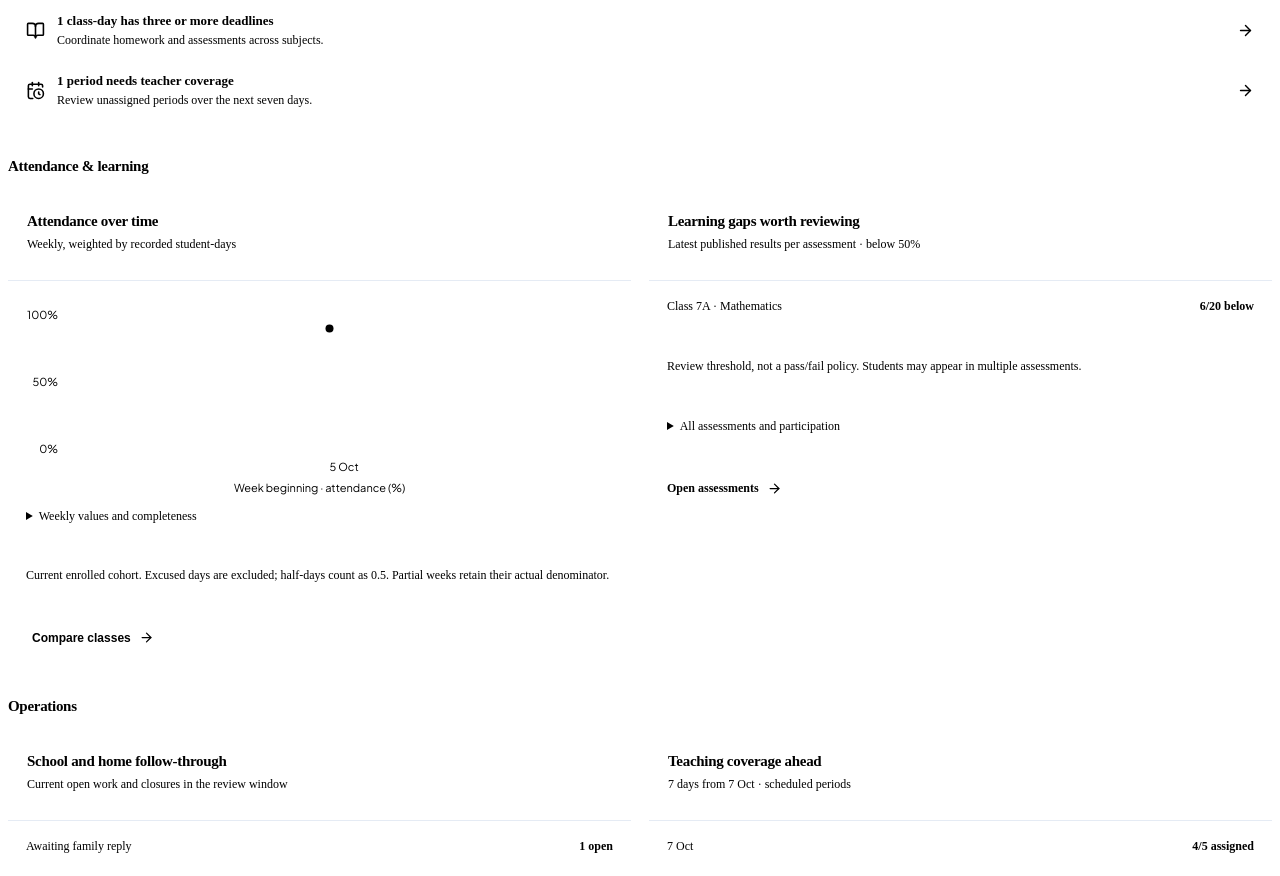
it: principal insights › shows missing records and published-assessment participation explicitly
This screenshot has width=1280, height=876.
(page scrolled)
Click the heading "All assessments and participation" at (760, 426), box [680,419,840,433]
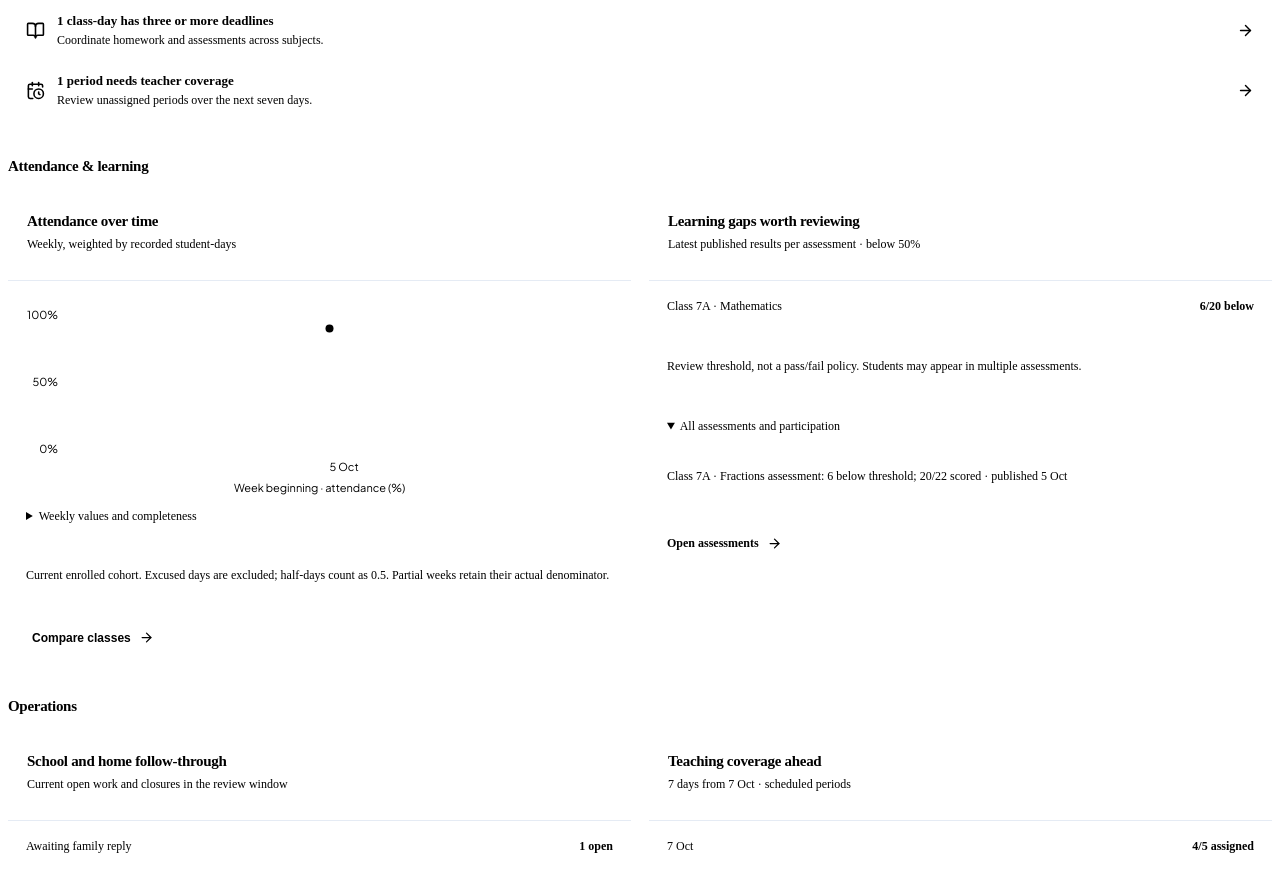
Now the text "20/22 scored" is shown, box [667,468,1067,482]
Click the heading "Weekly values and completeness" at (118, 516), box [39,509,197,523]
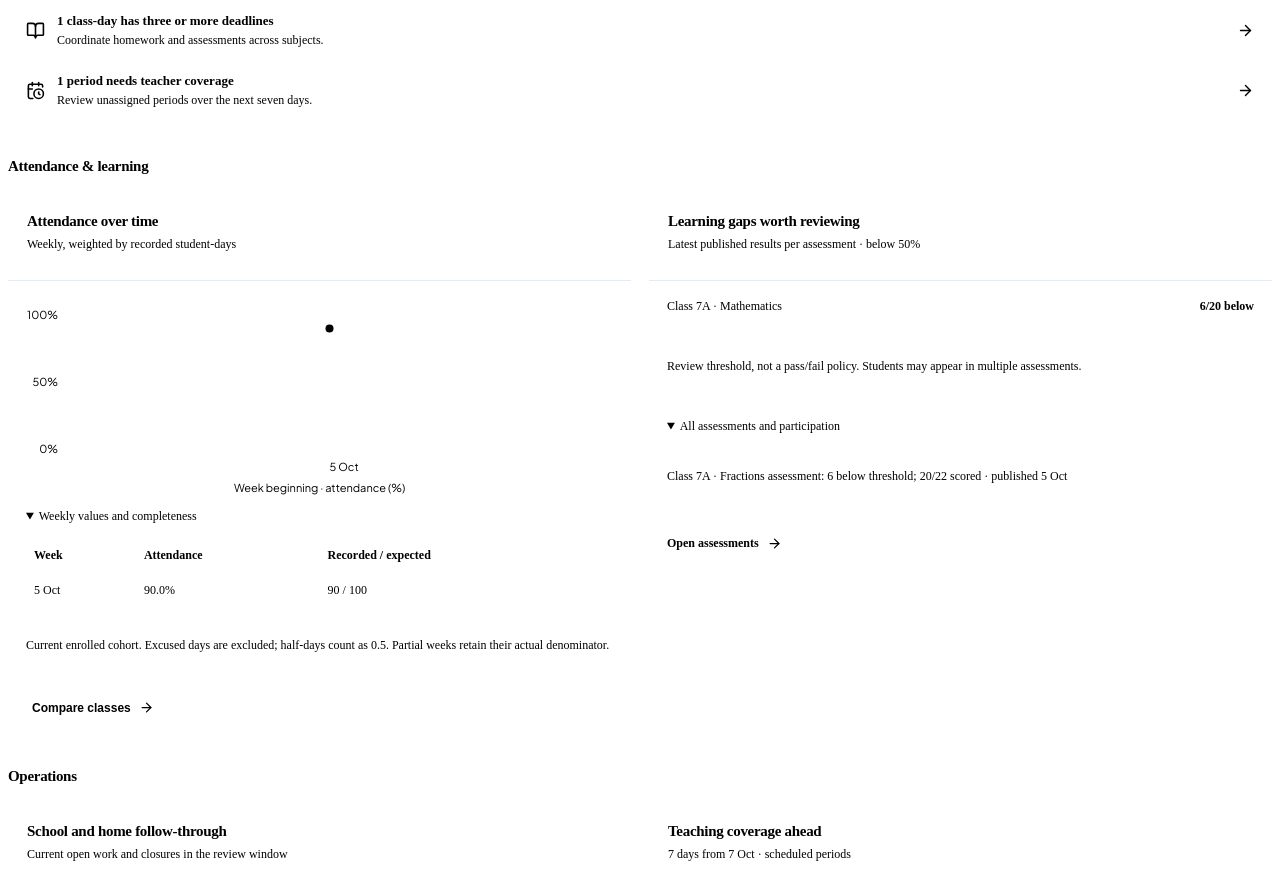
Now the table shows "90 / 100", box [26,538,613,608]
